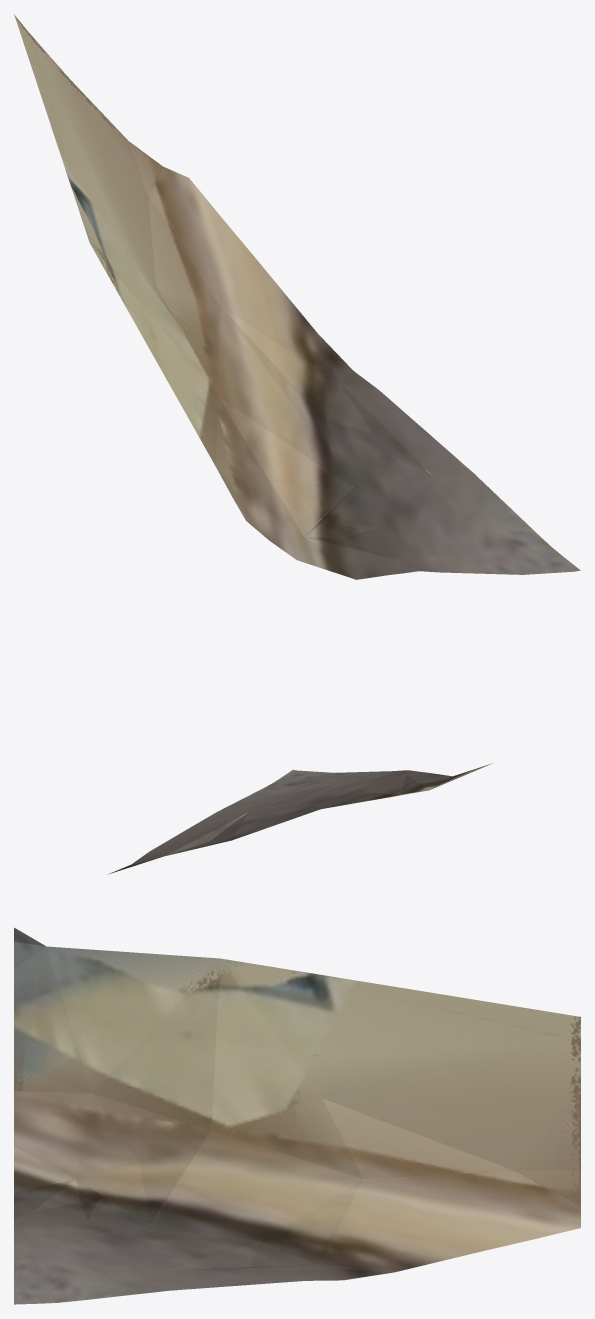
3 renders of one model, top to bottom at view 1: azimuth 30°, elevation 25°; view 2: azimuth 150°, elevation 25°; view 3: azimuth 270°, elevation 25°, orthographic. The views are drawn at different scales.
Size of the model in its own units: 0.9974 by 0.7659 by 1.67.
Materials: 2 (2 with a texture image).
